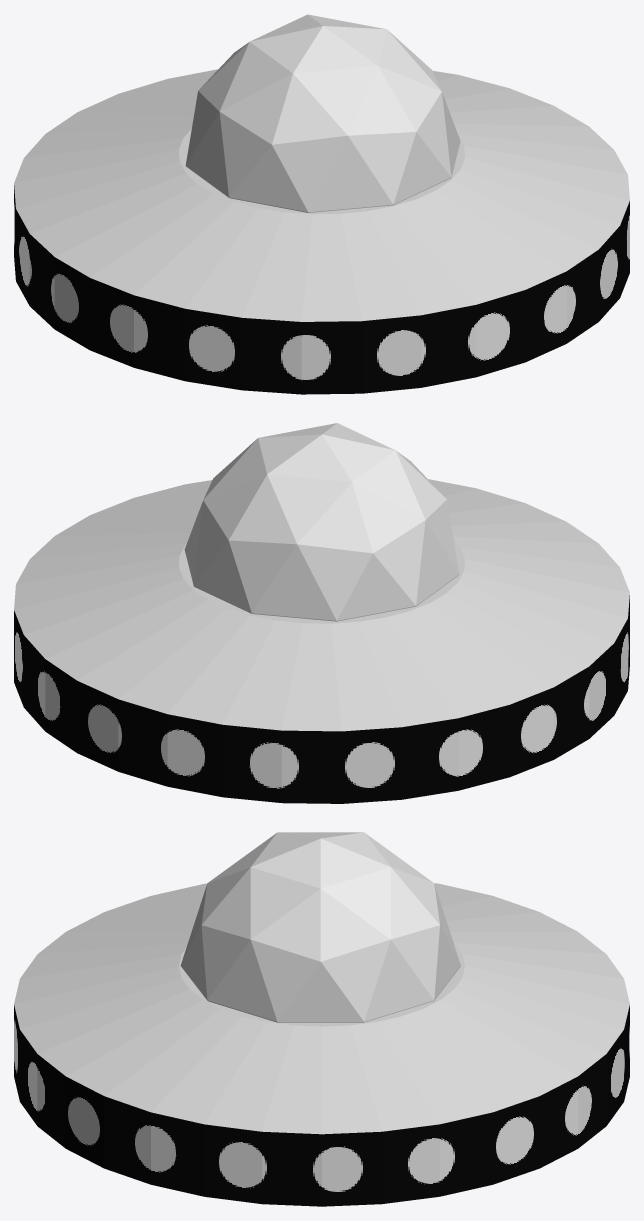
File: ufo.gltf
The picture shows the model from 3 angles, top to bottom: view 1: azimuth 30°, elevation 25°; view 2: azimuth 150°, elevation 25°; view 3: azimuth 270°, elevation 25°; orthographic projection.
Visible parts, largest first — view 1: Circle, Icosphere; view 2: Circle, Icosphere; view 3: Circle, Icosphere.
Part boxes in pixels (x1=…): Circle: x1=14, y1=69, x2=629, y2=394; Icosphere: x1=185, y1=14, x2=460, y2=212; Circle: x1=14, y1=479, x2=629, y2=803; Icosphere: x1=184, y1=423, x2=459, y2=621; Circle: x1=14, y1=883, x2=629, y2=1206; Icosphere: x1=180, y1=832, x2=460, y2=1022.
Size of the model in its own units: 2 by 1.06 by 2.
2 materials, 1 textured.
